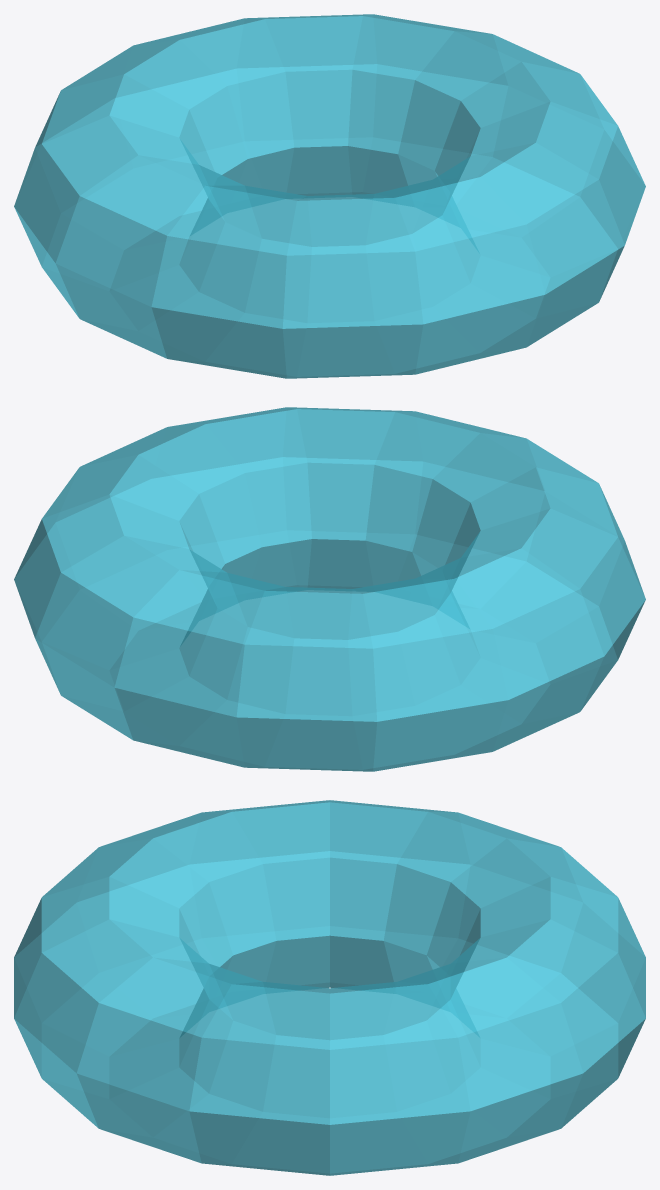
Rendered from (5)M AirJump.fbx.
3 renders of one model, top to bottom at view 1: azimuth 30°, elevation 25°; view 2: azimuth 150°, elevation 25°; view 3: azimuth 270°, elevation 25°, orthographic. The views are drawn at different scales.
Parts seen in each view (by area): view 1: AirJump.005; view 2: AirJump.005; view 3: AirJump.005.
Boxes of the visible parts, bbox=[...] form: AirJump.005: bbox=[14, 14, 645, 378]; AirJump.005: bbox=[14, 407, 645, 771]; AirJump.005: bbox=[14, 800, 645, 1175].
Bounding box in the file's own units: 157 × 48.2 × 153.
